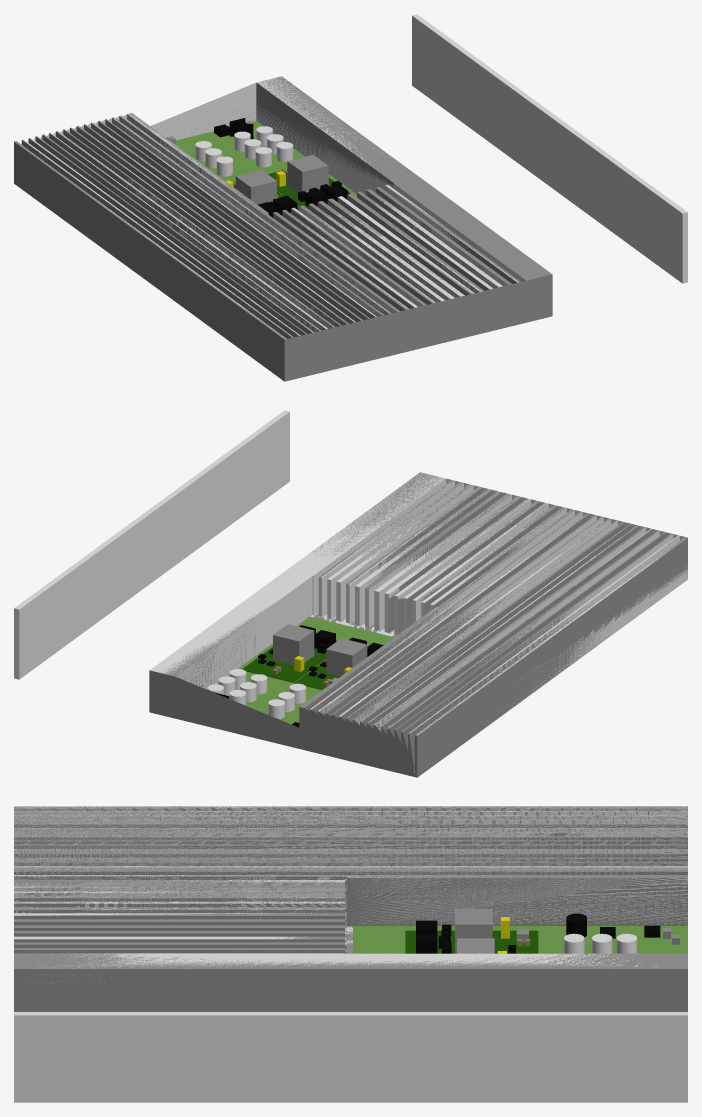
The model's file is CO64 (Card).fbx.
3 renders of one model, top to bottom at view 1: azimuth 30°, elevation 25°; view 2: azimuth 150°, elevation 25°; view 3: azimuth 270°, elevation 25°, orthographic. The views are drawn at different scales.
Visible parts, largest first — view 1: Cube, Cube.008, Anti, Heatsink base.001, Cube.007, Cube.002; view 2: Cube, Cube.008, Anti, Heatsink base.001, Cube.007, Cube.002, Heatsink base.004; view 3: Cube, Cube.008, Anti, Heatsink base.001, Cube.002, Heatsink base.002, Cube.007.
Boxes of the visible parts, bbox=[...] form: Cube: bbox=[14, 76, 552, 381]; Cube.008: bbox=[21, 77, 525, 339]; Anti: bbox=[412, 14, 687, 283]; Heatsink base.001: bbox=[175, 121, 356, 207]; Cube.007: bbox=[287, 154, 328, 193]; Cube.002: bbox=[235, 170, 276, 204]; Cube: bbox=[149, 472, 687, 777]; Cube.008: bbox=[150, 473, 687, 772]; Anti: bbox=[14, 410, 289, 679]; Heatsink base.001: bbox=[217, 616, 394, 724]; Cube.007: bbox=[273, 624, 314, 665]; Cube.002: bbox=[326, 638, 367, 676]; Heatsink base.004: bbox=[242, 640, 336, 682]; Cube: bbox=[14, 806, 687, 1011]; Cube.008: bbox=[14, 806, 687, 989]; Anti: bbox=[14, 1012, 687, 1102]; Heatsink base.001: bbox=[353, 926, 687, 953]; Cube.002: bbox=[455, 908, 492, 953]; Heatsink base.002: bbox=[405, 930, 538, 953]; Cube.007: bbox=[457, 938, 494, 953].
Size of the model in its own units: 2972 by 500 by 3454.
